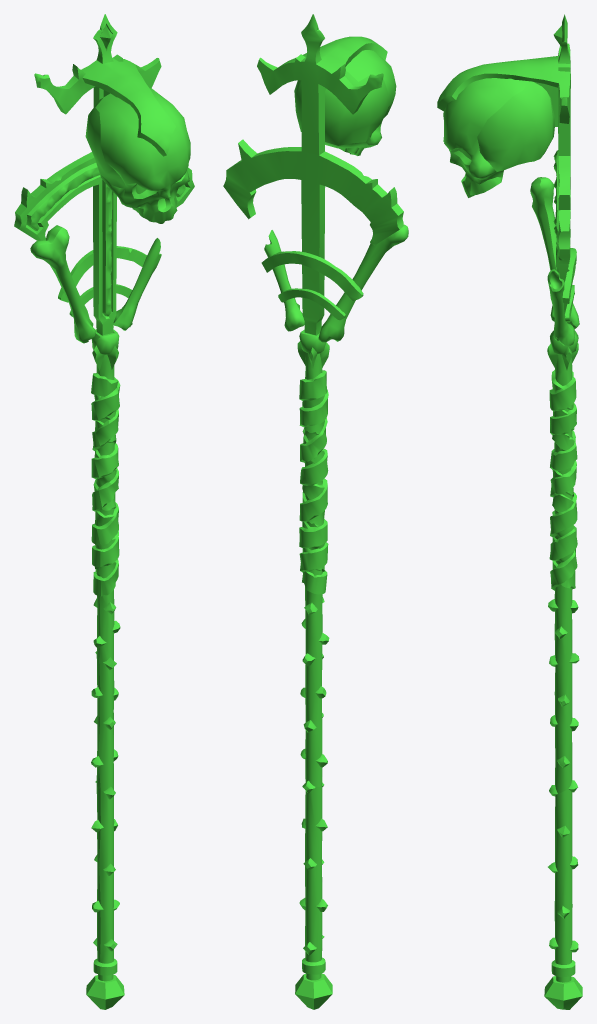
File: SM_Undead_Staff_3.fbx
The picture shows the model from 3 angles, left to right: view 1: azimuth 30°, elevation 25°; view 2: azimuth 150°, elevation 25°; view 3: azimuth 270°, elevation 25°; orthographic projection.
Parts seen in each view (by area): view 1: SM_Undead_Staff_3; view 2: SM_Undead_Staff_3; view 3: SM_Undead_Staff_3.
Part boxes in pixels (<box>): SM_Undead_Staff_3: <box>14,14,194,1009</box>; SM_Undead_Staff_3: <box>223,14,408,1009</box>; SM_Undead_Staff_3: <box>437,14,582,1009</box>.
Size of the model in its own units: 0.3678 by 1.98 by 0.2622.
